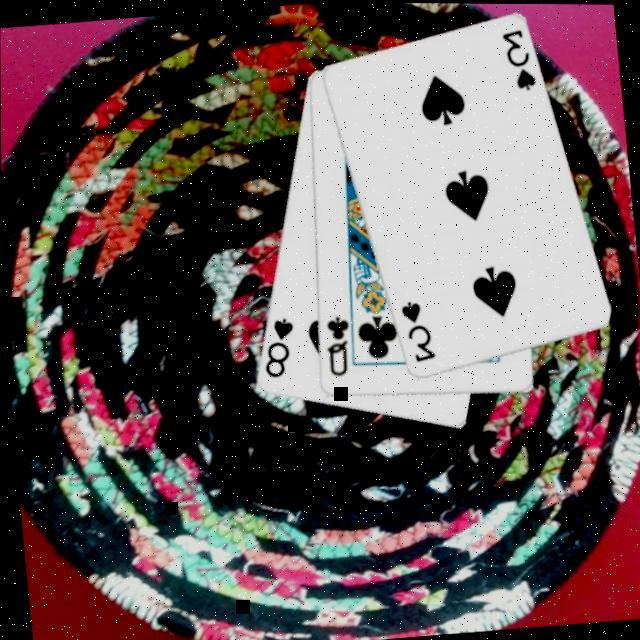3S: (394, 297, 436, 368), (496, 24, 536, 96)
8S: (254, 314, 298, 382)
QC: (317, 312, 353, 380)
